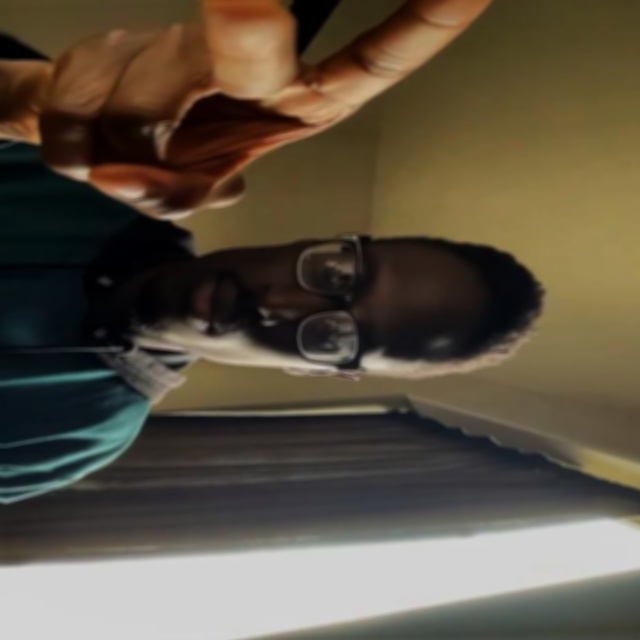Scissors: (10, 0, 518, 226)
